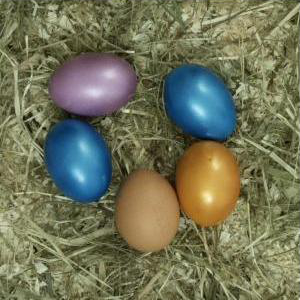egg: (49, 52, 138, 117), (176, 140, 241, 228), (113, 169, 181, 253), (164, 64, 239, 140), (45, 119, 112, 204)
